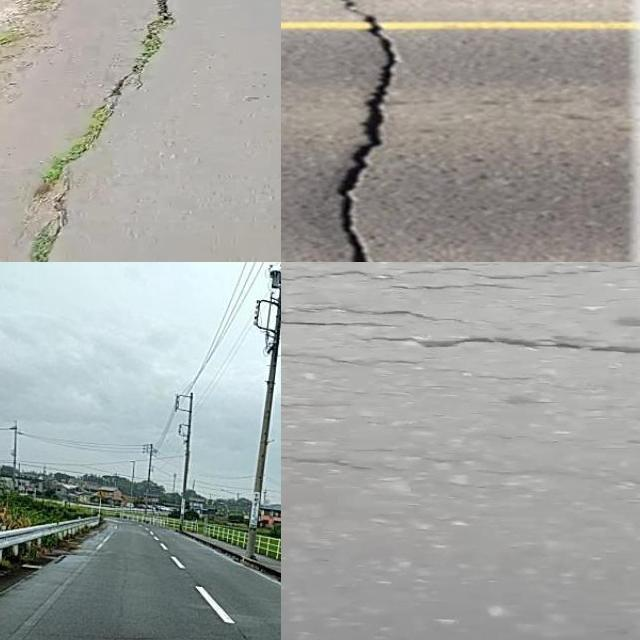Melintang: (386, 318, 640, 370), (281, 301, 446, 340)
Memanjang: (14, 0, 189, 262), (325, 0, 416, 262)
